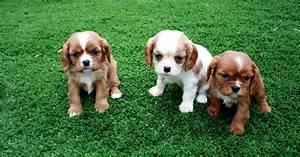dog: (143, 29, 212, 113), (204, 49, 271, 135), (58, 30, 122, 117)
